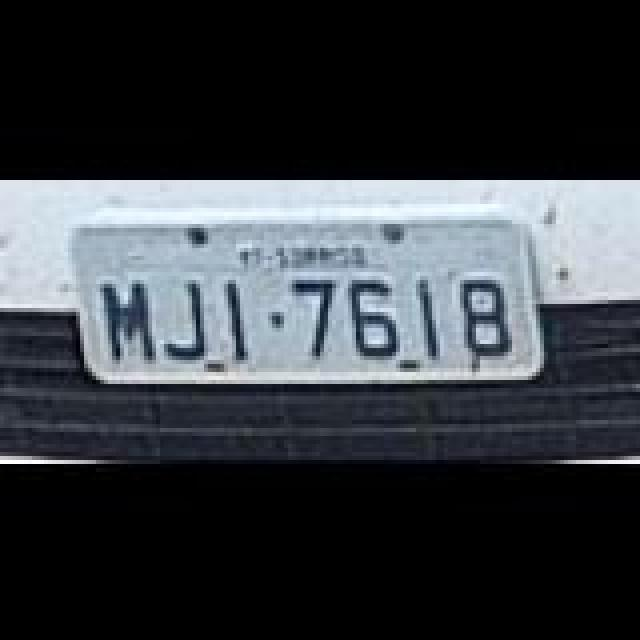1: (226, 278, 254, 362), (418, 276, 438, 356)
6: (350, 276, 402, 356)
7: (292, 276, 340, 356)
8: (460, 274, 516, 358)
J: (156, 278, 212, 362)
M: (104, 278, 160, 362)
